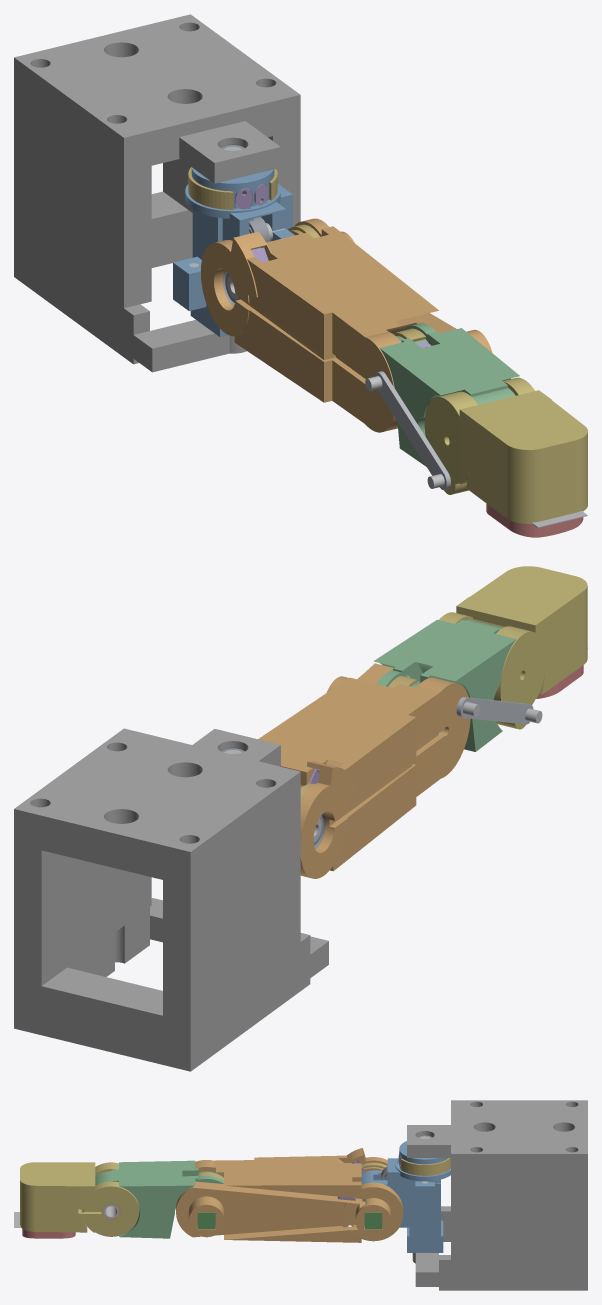
File: bench_finger_q0.glb
The picture shows the model from 3 angles, top to bottom: view 1: azimuth 30°, elevation 25°; view 2: azimuth 150°, elevation 25°; view 3: azimuth 270°, elevation 25°; orthographic projection. The views are drawn at different scales.
Parts seen in each view (by area): view 1: base, proximal, distal, middle, yoke, dip_bar, abd_ring, tip_skin; view 2: base, proximal, distal, middle, dip_bar; view 3: base, proximal, distal, middle, yoke, abd_ring, tip_skin, hall_mcp_pcb, hall_pip_pcb.
Part boxes in pixels (box(x1,y1,x2,y2)): base: box(14, 14, 300, 372); proximal: box(201, 218, 492, 432); distal: box(424, 377, 587, 523); middle: box(380, 323, 519, 466); yoke: box(173, 167, 294, 337); dip_bar: box(374, 371, 450, 489); abd_ring: box(188, 167, 277, 209); tip_skin: box(486, 503, 583, 537); base: box(14, 728, 328, 1071); proximal: box(258, 663, 470, 878); distal: box(439, 566, 587, 729); middle: box(373, 619, 516, 751); dip_bar: box(456, 697, 533, 724); base: box(407, 1100, 587, 1290); proximal: box(176, 1148, 403, 1242); distal: box(20, 1162, 138, 1236); middle: box(95, 1160, 223, 1238); yoke: box(361, 1141, 450, 1252); abd_ring: box(400, 1158, 450, 1175); tip_skin: box(22, 1229, 75, 1238); hall_mcp_pcb: box(364, 1212, 382, 1229); hall_pip_pcb: box(197, 1212, 215, 1228).
Size of the model in its own units: 32 by 38 by 144.
